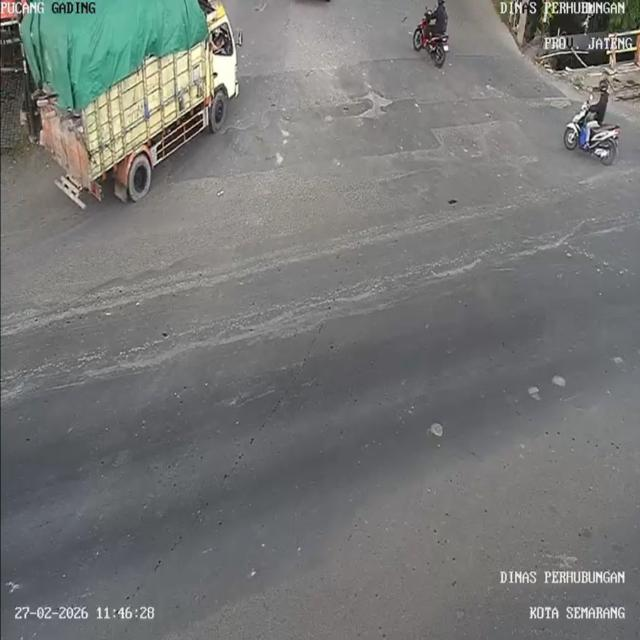motorcycle: (562, 103, 622, 166), (416, 13, 449, 74)
person: (590, 79, 611, 124), (433, 0, 453, 39)
rider_region: (560, 78, 620, 166), (410, 0, 451, 72)
